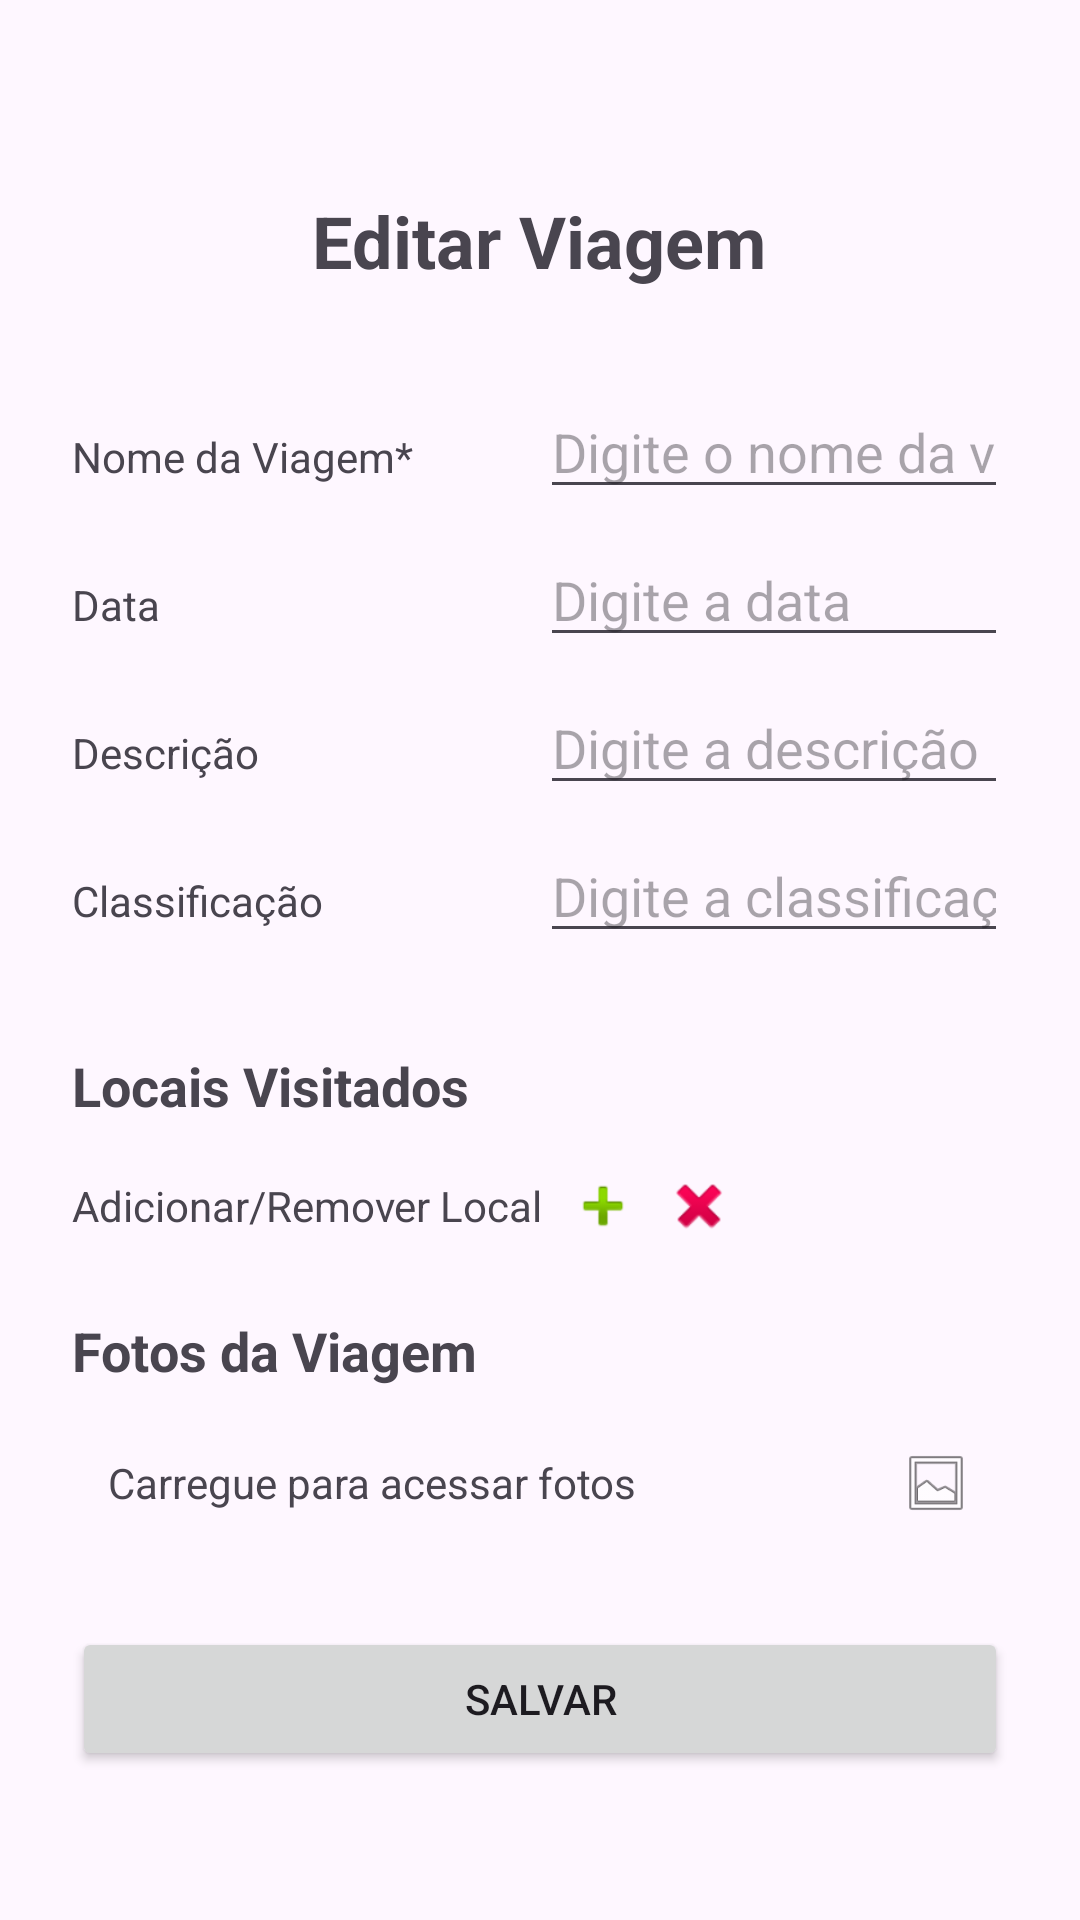

Locate icon controls on the screen. Image size 1080 x 1920, boxes as (x1, y1, x2, y2).
gallery: (909, 1456, 963, 1510)
Remover Último Local: (676, 1184, 722, 1228)
